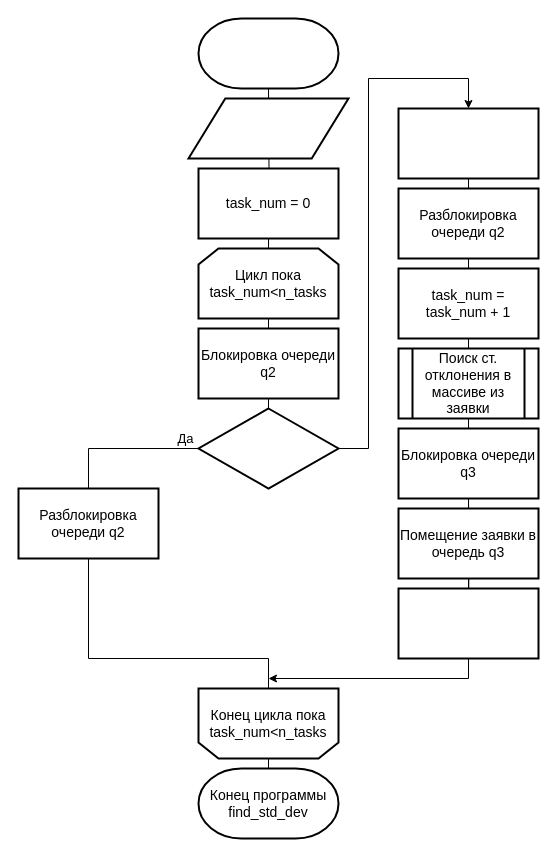
Some shapes in this 556 by 856 pixel diagram are drawn without their labels. The shapes that lost their labels are listed below. From the top down, each one's centre as x and y in pixels, then its label:
At [268,53]: "Начало программы find_std_dev".
At [268,128]: "n_tasks".
At [468,143]: "Получение заявки из очереди q2".
At [268,448]: "Очередь q2 пуста?".
At [468,623]: "Разблокировка очереди q3".
